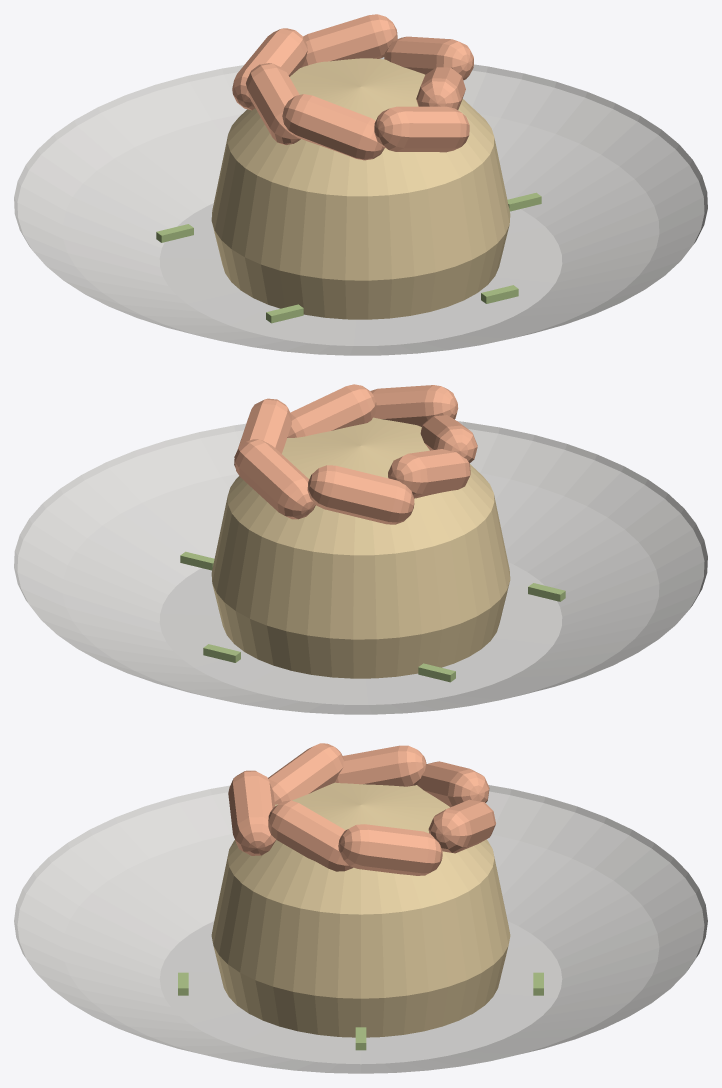
File: mofongo.glb
3 renders of one model, top to bottom at view 1: azimuth 30°, elevation 25°; view 2: azimuth 150°, elevation 25°; view 3: azimuth 270°, elevation 25°, orthographic.
Parts seen in each view (by area): view 1: p0, p1, p6, p7, p3, p2, p5, p4, p8; view 2: p0, p1, p4, p3, p8, p5, p7, p2, p6; view 3: p0, p1, p2, p8, p7, p5, p6, p3, p4.
Part boxes in pixels (<box>): p0: <box>14,57,707,355</box>; p1: <box>211,58,510,319</box>; p6: <box>282,94,384,160</box>; p7: <box>374,106,469,152</box>; p3: <box>301,14,397,67</box>; p2: <box>384,36,473,80</box>; p5: <box>246,63,300,144</box>; p4: <box>232,28,307,110</box>; p8: <box>416,67,465,109</box>; p0: <box>14,421,707,714</box>; p1: <box>211,417,510,678</box>; p4: <box>307,465,414,524</box>; p3: <box>234,439,315,519</box>; p8: <box>287,384,376,437</box>; p5: <box>388,449,470,498</box>; p7: <box>370,385,458,426</box>; p2: <box>234,398,291,467</box>; p6: <box>420,415,477,463</box>; p0: <box>14,785,707,1073</box>; p1: <box>211,782,510,1037</box>; p2: <box>338,824,442,875</box>; p8: <box>268,800,353,871</box>; p7: <box>228,770,276,855</box>; p5: <box>335,745,426,786</box>; p6: <box>268,743,343,804</box>; p3: <box>428,799,495,853</box>; p4: <box>417,761,489,807</box>.
Bounding box in the file's own units: 0.26 × 0.0832 × 0.26.
